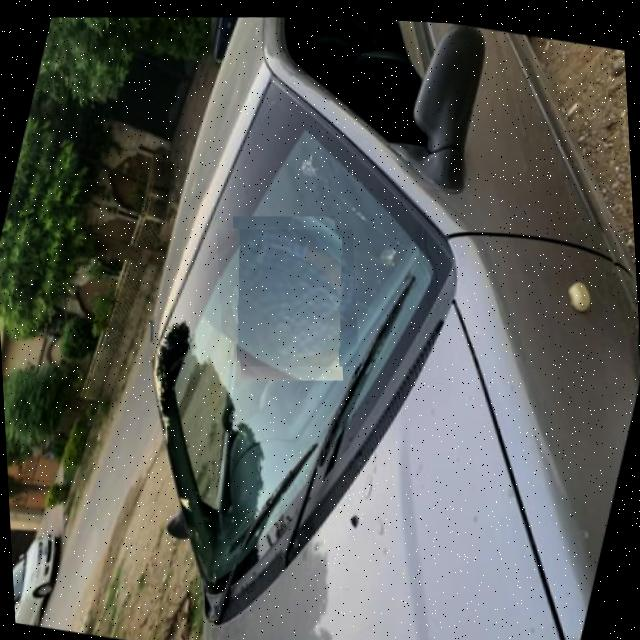no-seatbelt: (216, 219, 360, 369)
